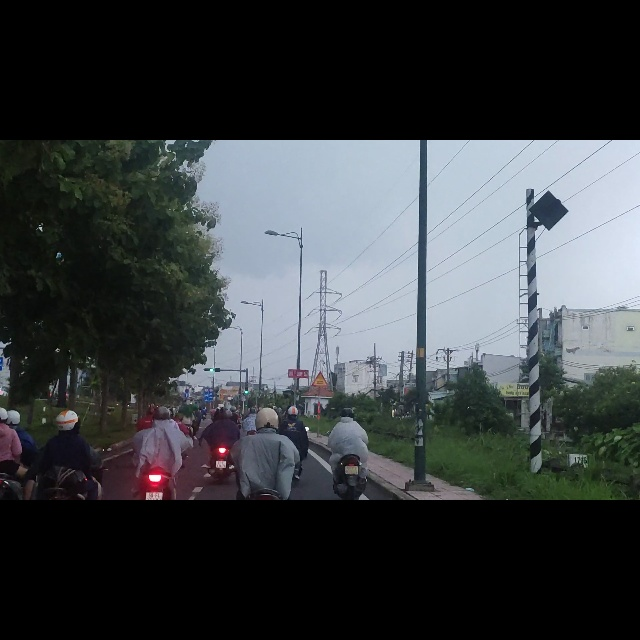bien_chi_dan: (311, 411, 329, 439)
